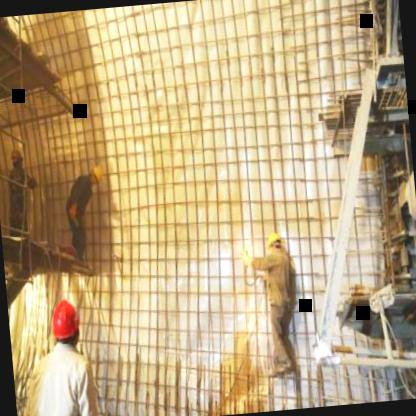helmet: (47, 296, 82, 354), (264, 233, 284, 260), (87, 160, 104, 188), (9, 144, 25, 171)
